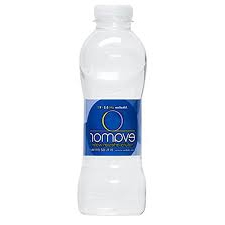plastic water bottle: (72, 2, 150, 219)
